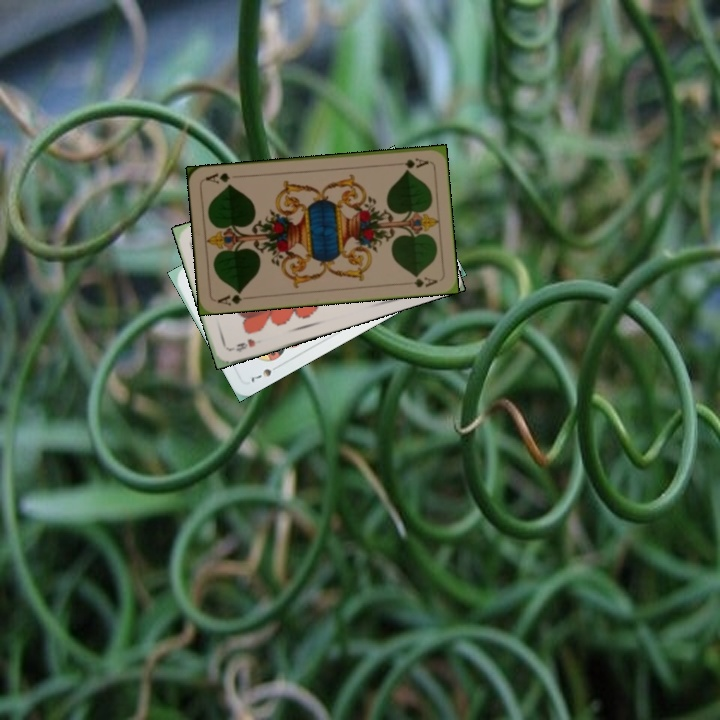GA: (213, 287, 253, 308), (390, 154, 431, 171)
H9: (226, 334, 258, 355)
S7: (247, 361, 283, 385)
